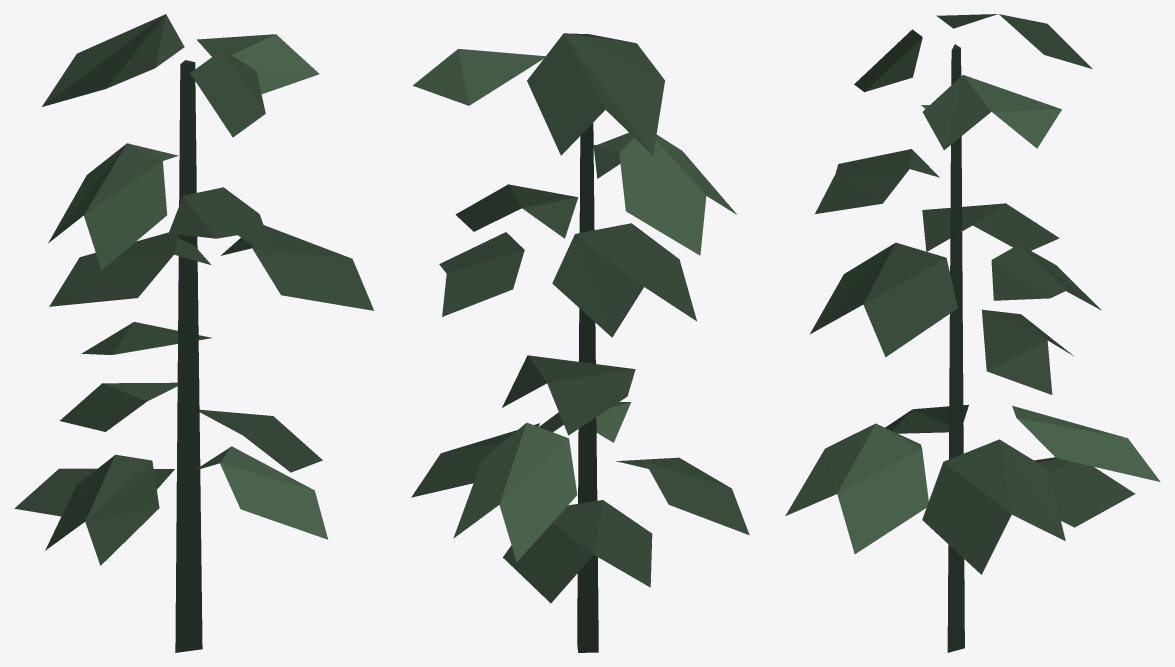
Rendered from SM_Env_GroundLeaves_03.glb.
3 views of the same model, side by side, from view 1: azimuth 30°, elevation 25°; view 2: azimuth 150°, elevation 25°; view 3: azimuth 270°, elevation 25° (orthographic). The views are drawn at different scales.
Parts seen in each view (by area): view 1: SM_Env_GroundLeaves_03; view 2: SM_Env_GroundLeaves_03; view 3: SM_Env_GroundLeaves_03.
Boxes of the visible parts, x1,y1,x2,y2 form: SM_Env_GroundLeaves_03: (14,14,374,652); SM_Env_GroundLeaves_03: (411,33,749,652); SM_Env_GroundLeaves_03: (785,14,1160,652).
Size of the model in its own units: 0.00435 by 0.00823 by 0.00443.
